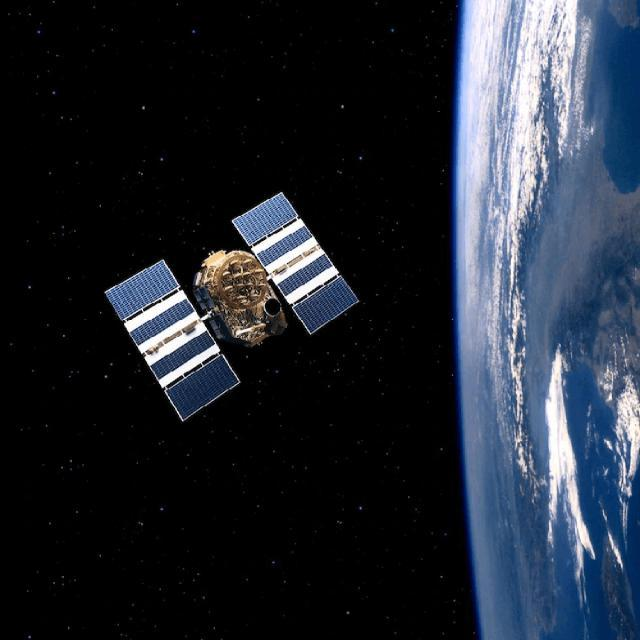sat: (92, 175, 368, 431)
